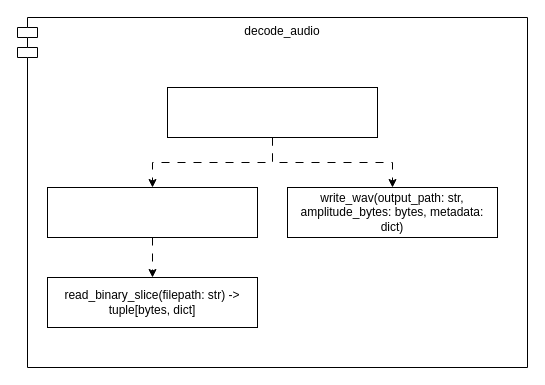
Image size: 545x385. Some labels were removed from this diagram. The centre of each missing label's shape, as x and y in pixels:
collect_slices(input_path: Path) -> tuple[bytes, dict]: pixel 152 212
main(): pixel 272 112
